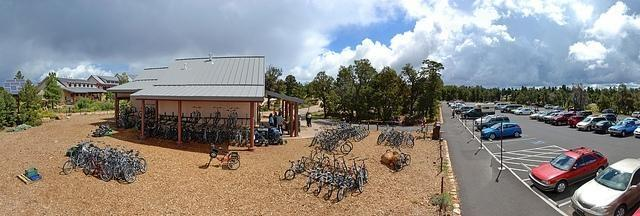bicycle: (337, 156, 359, 202), (207, 144, 240, 170), (317, 154, 338, 194), (125, 158, 148, 183), (356, 158, 371, 192), (99, 154, 117, 182), (304, 147, 325, 171), (285, 158, 306, 180), (394, 152, 412, 172), (328, 172, 338, 200), (114, 160, 128, 180), (88, 155, 101, 176), (306, 168, 316, 190)
car: (570, 157, 640, 216), (528, 146, 610, 194), (480, 122, 522, 140), (477, 115, 511, 132), (576, 116, 608, 132), (594, 121, 614, 134), (475, 115, 495, 126), (567, 115, 585, 127), (455, 106, 474, 115), (514, 108, 535, 115)
truck: (476, 115, 510, 131), (460, 103, 496, 118), (607, 121, 640, 136), (550, 113, 576, 126), (501, 104, 522, 112)
